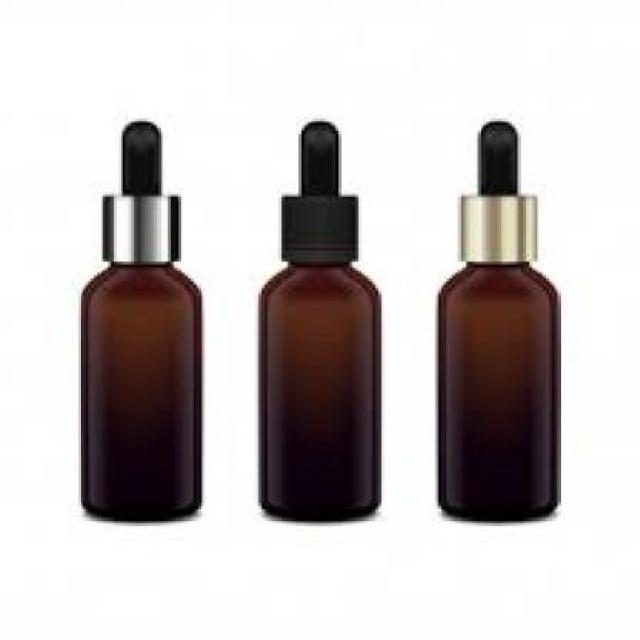kaca: (252, 262, 378, 520), (435, 260, 557, 518), (77, 262, 198, 518)
